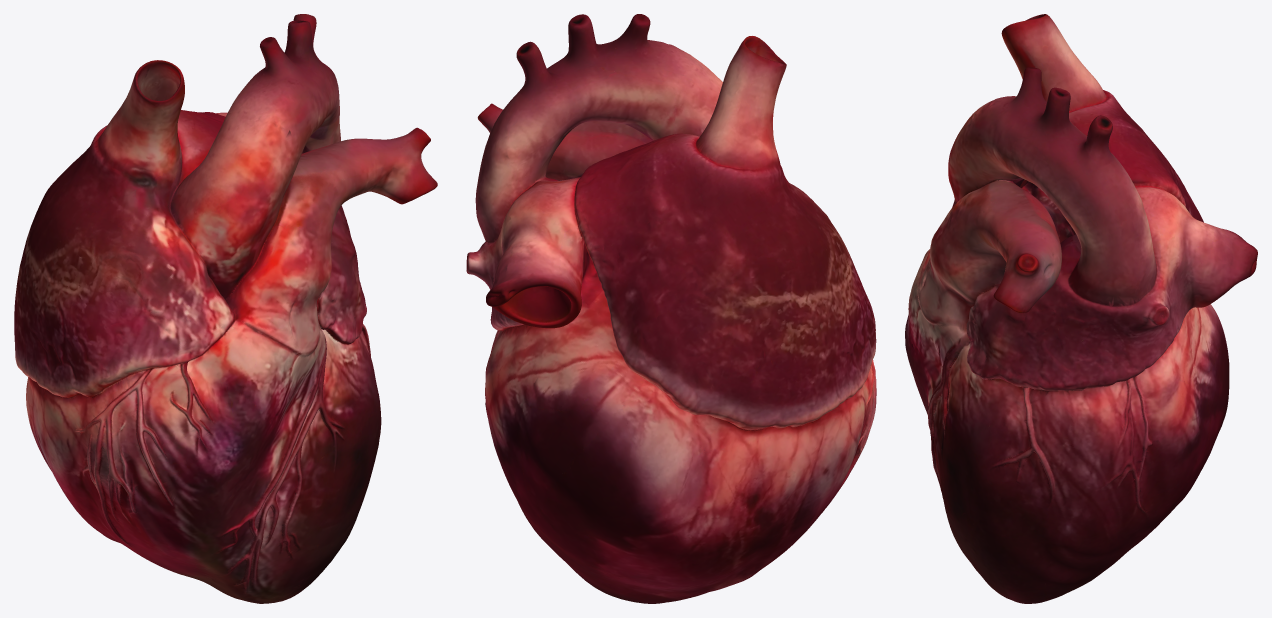
Rendered from SET4.glb.
The picture shows the model from 3 angles, left to right: view 1: azimuth 30°, elevation 25°; view 2: azimuth 150°, elevation 25°; view 3: azimuth 270°, elevation 25°; orthographic projection. The views are drawn at different scales.
Size of the model in its own units: 1.34 by 1.9 by 1.14.
1 material, 1 textured.
